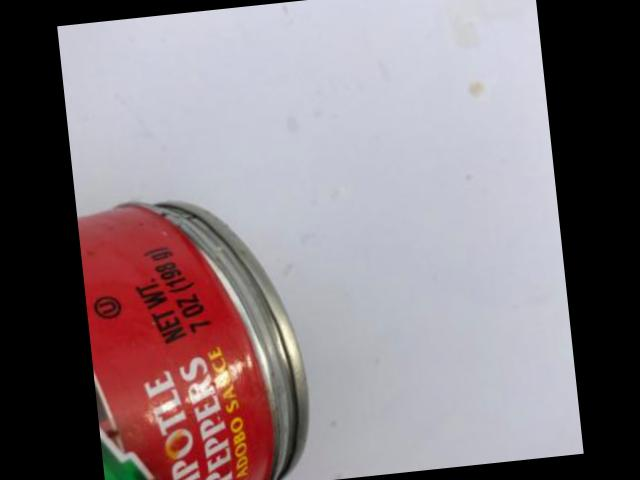metal: (78, 201, 309, 480)
